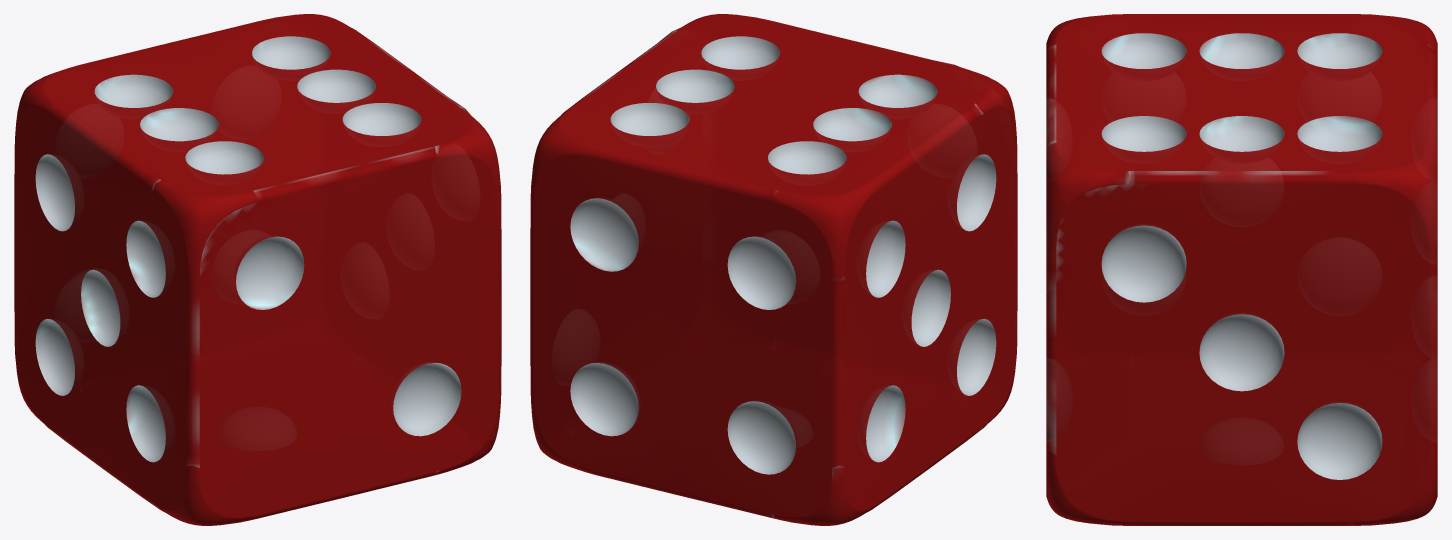
The picture shows the model from 3 angles, left to right: view 1: azimuth 30°, elevation 25°; view 2: azimuth 150°, elevation 25°; view 3: azimuth 270°, elevation 25°; orthographic projection. The views are drawn at different scales.
Visible parts, largest first — view 1: g (×2); view 2: g (×2); view 3: g (×2).
Boxes of the visible parts, x1,y1,x2,y2 form: g (×2): [14, 14, 501, 525]; g (×2): [530, 14, 1017, 525]; g (×2): [1046, 14, 1437, 525].
Bounding box in the file's own units: 2 × 2 × 2.
1 material, 1 textured.
